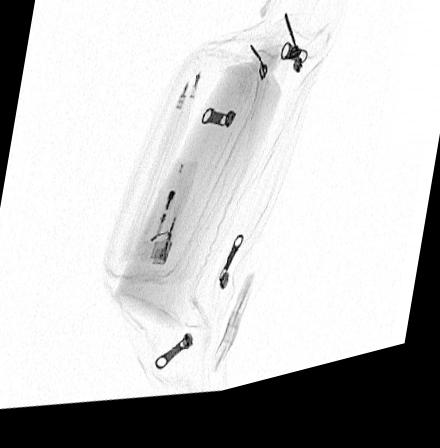Lighter: (142, 168, 199, 273)
